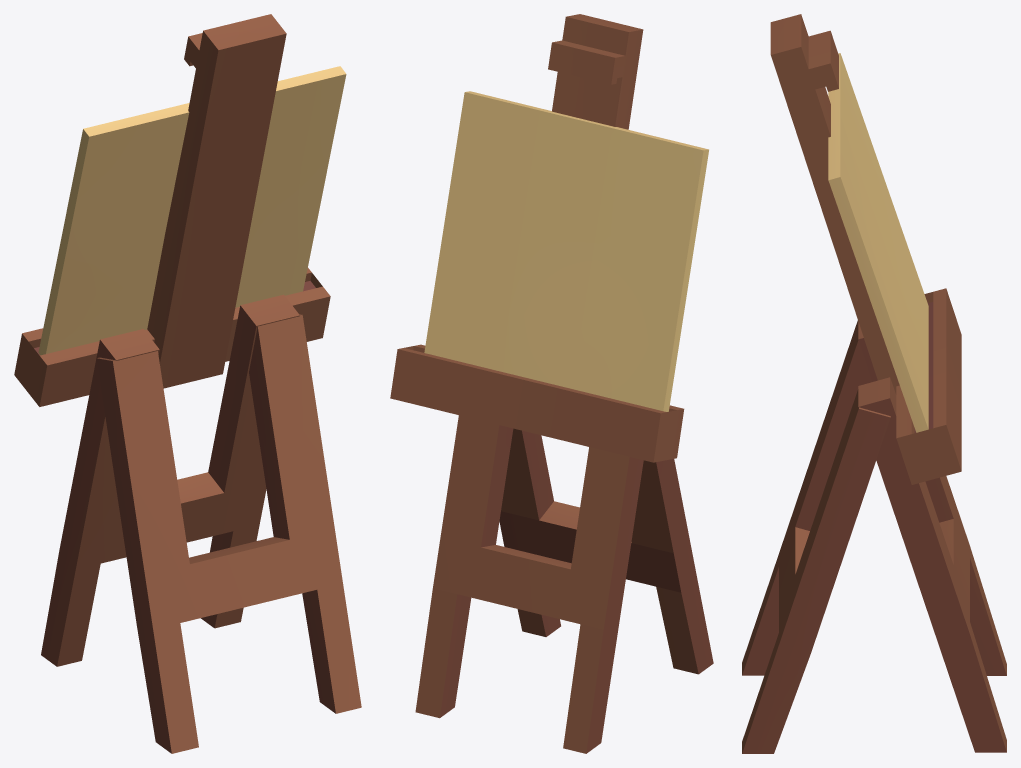
The model's file is Prop_EaselPeasel.fbx.
3 views of the same model, side by side, from view 1: azimuth 30°, elevation 25°; view 2: azimuth 150°, elevation 25°; view 3: azimuth 270°, elevation 25° (orthographic). The views are drawn at different scales.
Visible parts, largest first — view 1: Cube.061; view 2: Cube.061; view 3: Cube.061.
Part boxes in pixels (x1,y1,x2,y2): Cube.061: (14,14,361,753); Cube.061: (390,14,713,753); Cube.061: (742,14,1006,753).
Size of the model in its own units: 76.42 by 177 by 62.61.
